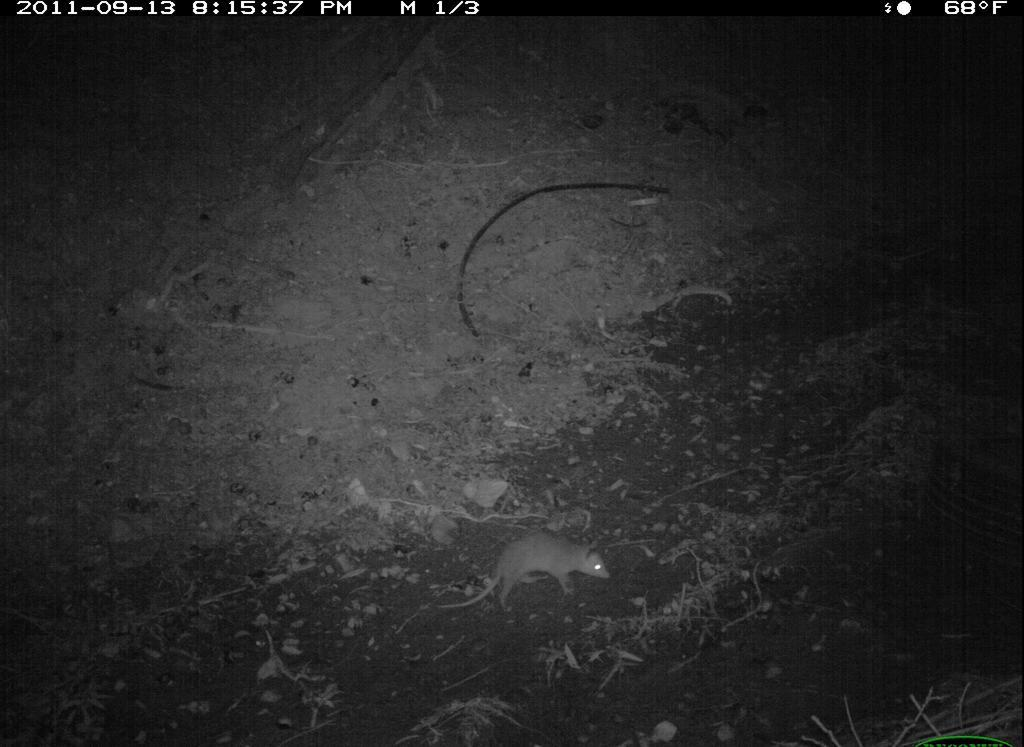opossum: (436, 524, 620, 626)
